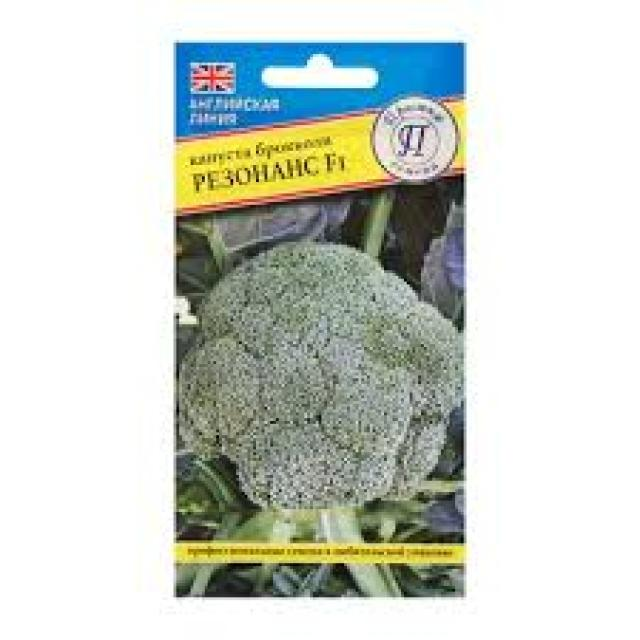broccoli: (184, 226, 511, 514)
